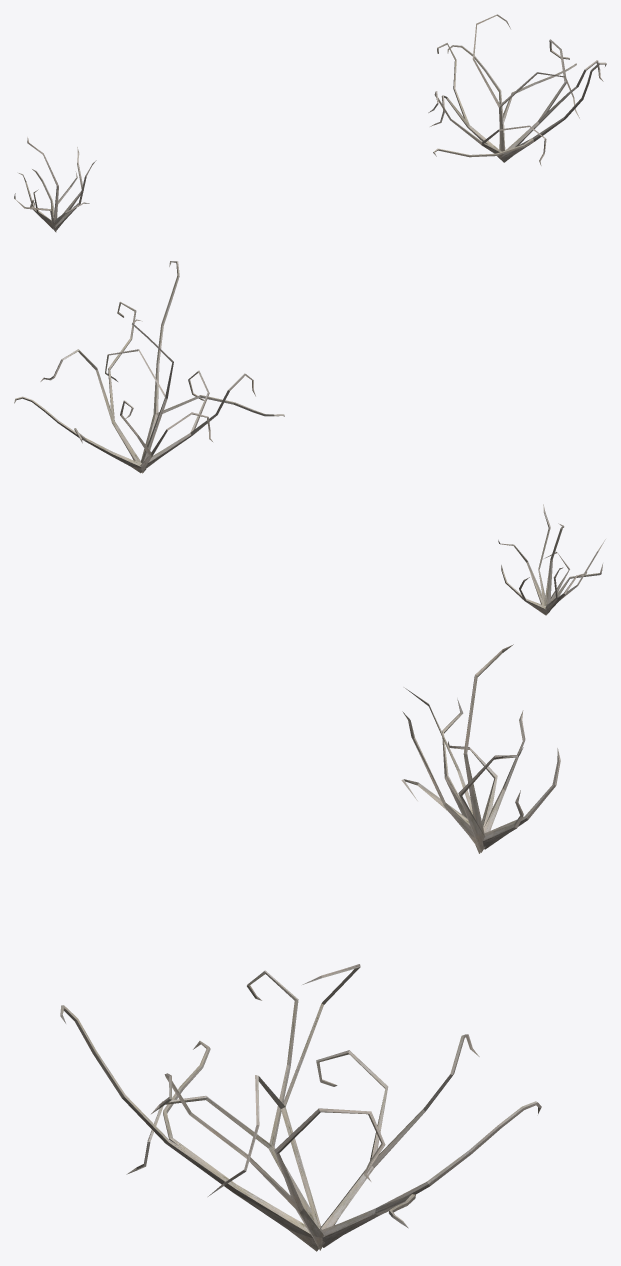
The model's file is bark_log_b.glb.
3 renders of one model, top to bottom at view 1: azimuth 30°, elevation 25°; view 2: azimuth 150°, elevation 25°; view 3: azimuth 270°, elevation 25°, orthographic. The views are drawn at different scales.
Parts seen in each view (by area): view 1: geometry_0; view 2: geometry_0; view 3: geometry_0.
Part boxes in pixels (x1=…): geometry_0: x1=14, y1=14, x2=606, y2=232; geometry_0: x1=14, y1=261, x2=605, y2=615; geometry_0: x1=60, y1=644, x2=560, y2=1251.
Size of the model in its own units: 1200 by 299 by 475.
Materials: 1 (1 with a texture image).
